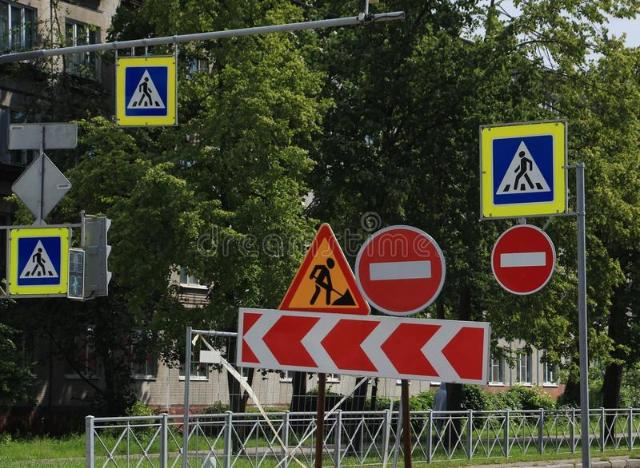B2: (354, 224, 446, 316), (490, 223, 556, 295)
